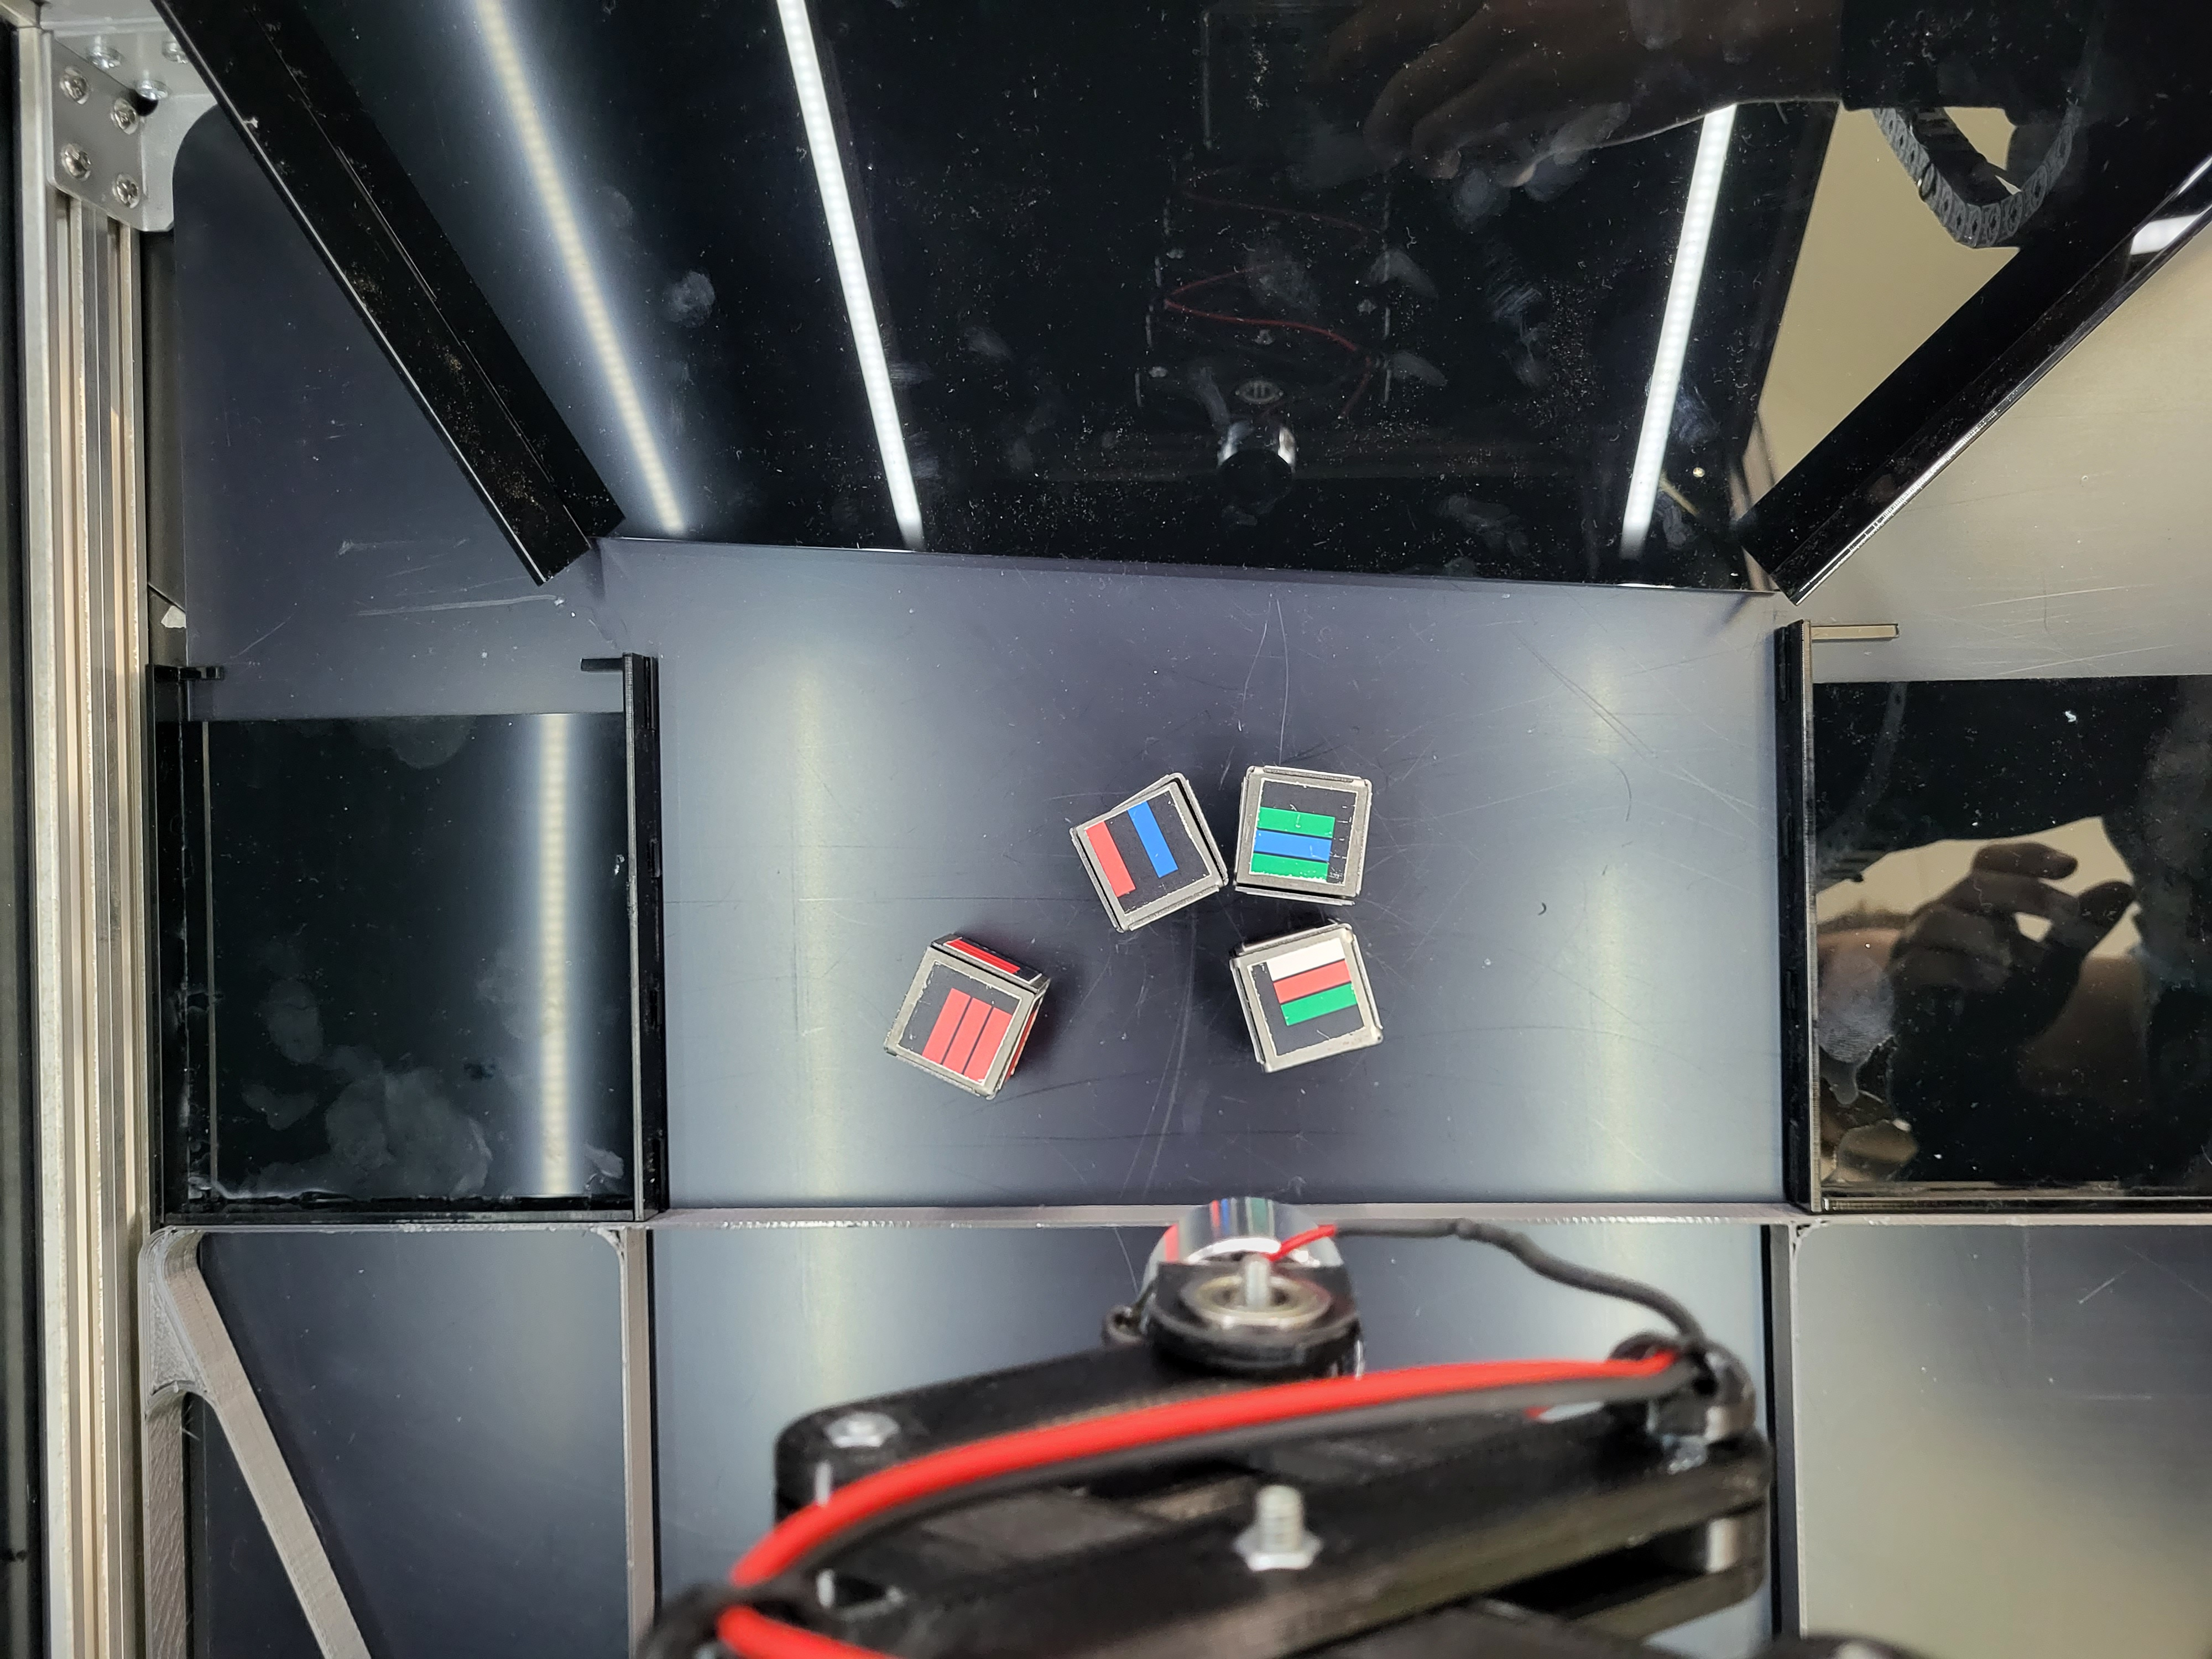Cube: (871, 913, 1069, 1119), (1066, 753, 1247, 938), (1224, 920, 1402, 1077), (1230, 735, 1392, 901)
